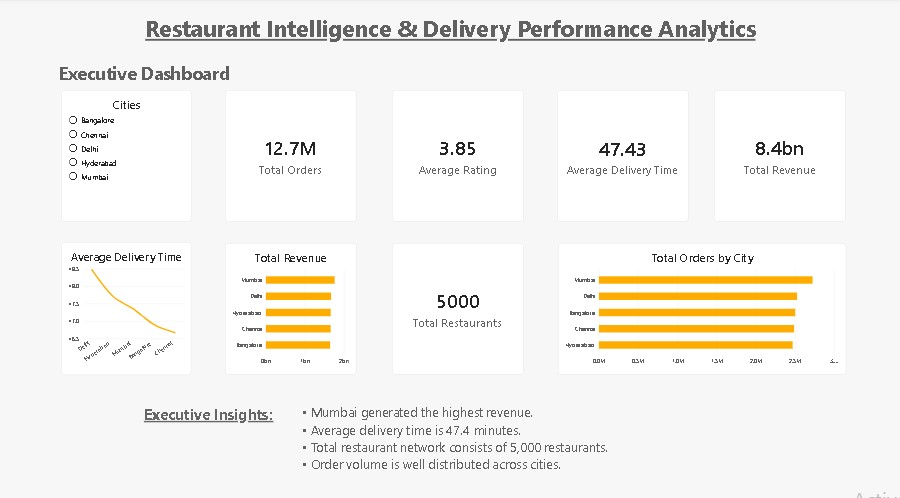

This screenshot's page, from the dashboard's own definition file:
{"tool":"powerbi","page":{"name":"Executive Overview","canvas":[1920,1080],"ordinal":0},"visuals":[{"type":"card","fields":{"Values":["Restaurants_Clean.Total Revenue"]},"box":[1519.8,195.9,280,280],"z":0},{"type":"card","fields":{"Values":["Restaurants_Clean.Total Orders"]},"box":[479.8,195.9,280,280],"z":1000},{"type":"card","fields":{"Values":["Restaurants_Clean.Average Rating"]},"box":[834.8,195.9,280,280],"z":2000},{"type":"card","fields":{"Values":["Restaurants_Clean.Average Delivery Time"]},"box":[1187.3,195.9,280,280],"z":3000},{"type":"card","fields":{"Values":["Restaurants_Clean.Total Restaurants"]},"box":[834.8,521.8,280,280],"z":4000},{"type":"clusteredBarChart","title":"Total Revenue","fields":{"Category":["Restaurants_Clean.City"],"Y":["Restaurants_Clean.Total Revenue"]},"box":[481.4,521.8,280,280],"z":5000},{"type":"clusteredBarChart","fields":{"Category":["Restaurants_Clean.City"],"Y":["Restaurants_Clean.Total Orders"]},"box":[1188.1,521.8,613.3,280],"z":6000},{"type":"lineChart","title":"Average Delivery Time","fields":{"Category":["Restaurants_Clean.City"],"Y":["Restaurants_Clean.Average Delivery Time"]},"box":[131.4,518.4,276.7,283.3],"z":7000},{"type":"textbox","box":[128,32,1664,160],"z":8000},{"type":"listSlicer","title":"Cities","fields":{"Values":["Restaurants_Clean.City"]},"box":[132.3,195.9,277.5,280],"z":9000},{"type":"textbox","box":[622.5,860,987.5,192.5],"z":10000},{"type":"textbox","box":[237.5,860,345,192.5],"z":11000}]}

Visuals, with their boxes in screenshot pixels (x1, y1, x2, y2), scaled from the page's 1920x1080 canvas onto the 900x498 screenshot:
card - Restaurants_Clean.Total Revenue: (712,90,844,219)
card - Restaurants_Clean.Total Orders: (225,90,356,219)
card - Restaurants_Clean.Average Rating: (391,90,523,219)
card - Restaurants_Clean.Average Delivery Time: (557,90,688,219)
card - Restaurants_Clean.Total Restaurants: (391,241,523,370)
"Total Revenue" clusteredBarChart: (226,241,357,370)
clusteredBarChart - Restaurants_Clean.City x Restaurants_Clean.Total Orders: (557,241,844,370)
"Average Delivery Time" lineChart: (62,239,191,370)
textbox: (60,15,840,89)
"Cities" listSlicer: (62,90,192,219)
textbox: (292,397,755,485)
textbox: (111,397,273,485)
